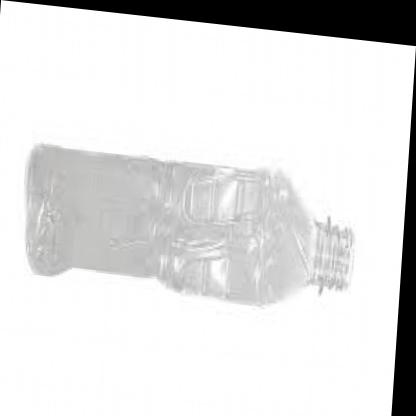Plastic: (12, 127, 376, 332)
